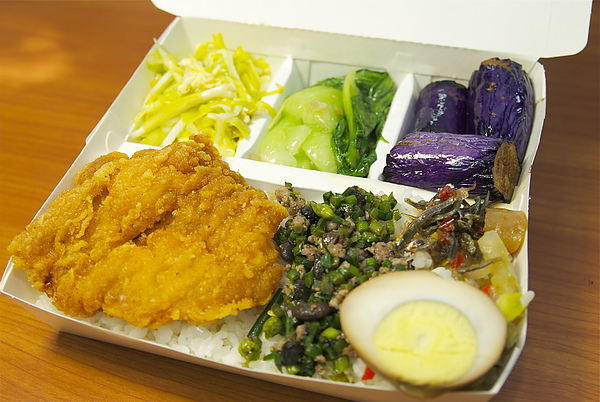fried_chicken: (7, 131, 292, 327)
